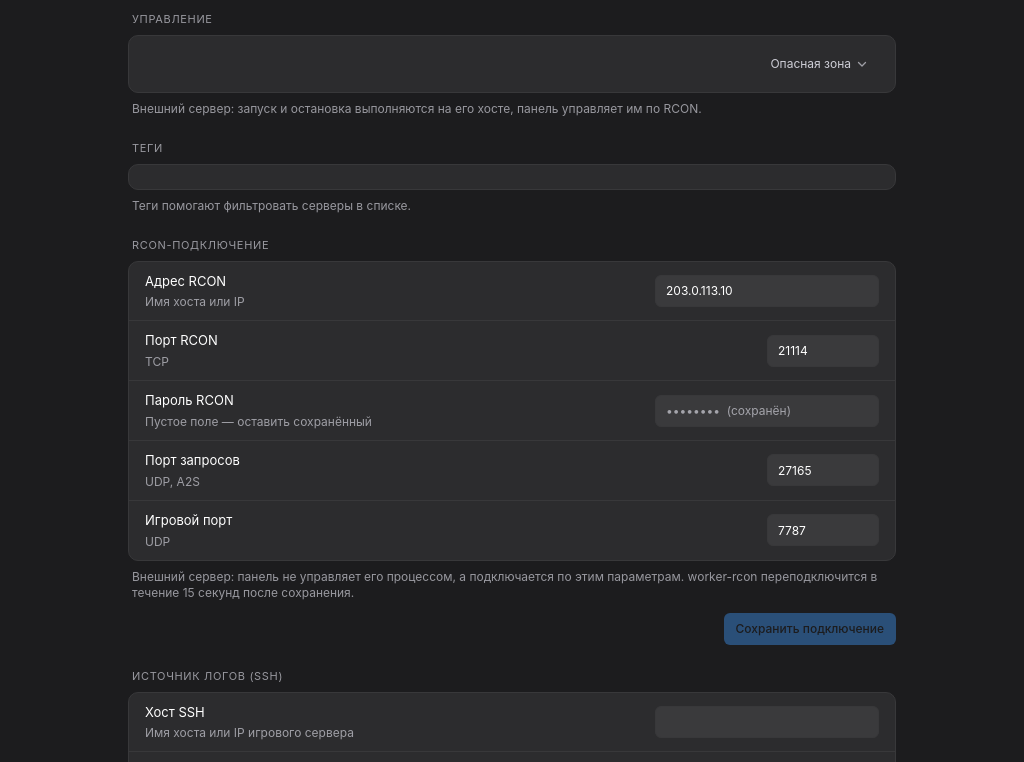
Scenario: SettingsPage — внешний сервер › сохраняет подключение через PUT /external-connection и не шлёт пустой пароль
The width and height of the screenshot is (1024, 762).
Check: the heading "RCON-подключение" is shown, box [132,238,269,252]
Check: the button "Сохранить подключение" is disabled, box [724,613,896,645]
Replace the text in the field named "Адрес RCON" with "198.51.100.7" at (767, 291), box [655,275,879,307]
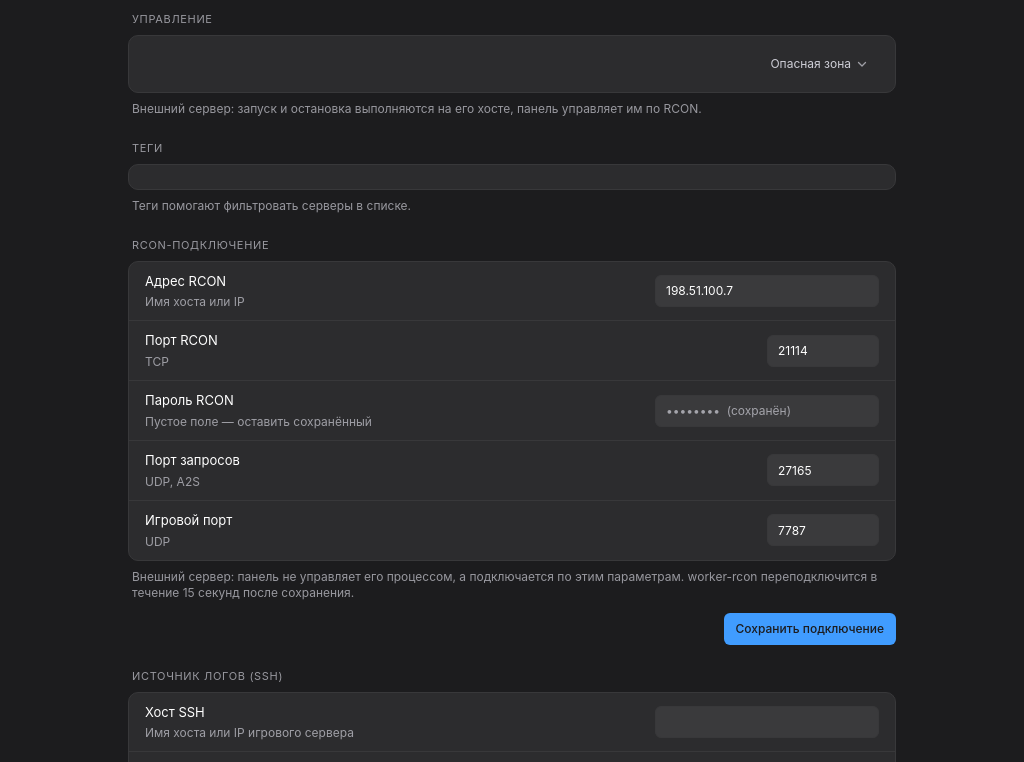
Check: the button "Сохранить подключение" is enabled
Click the button "Сохранить подключение".
click(810, 629)  # box [724,613,896,645]
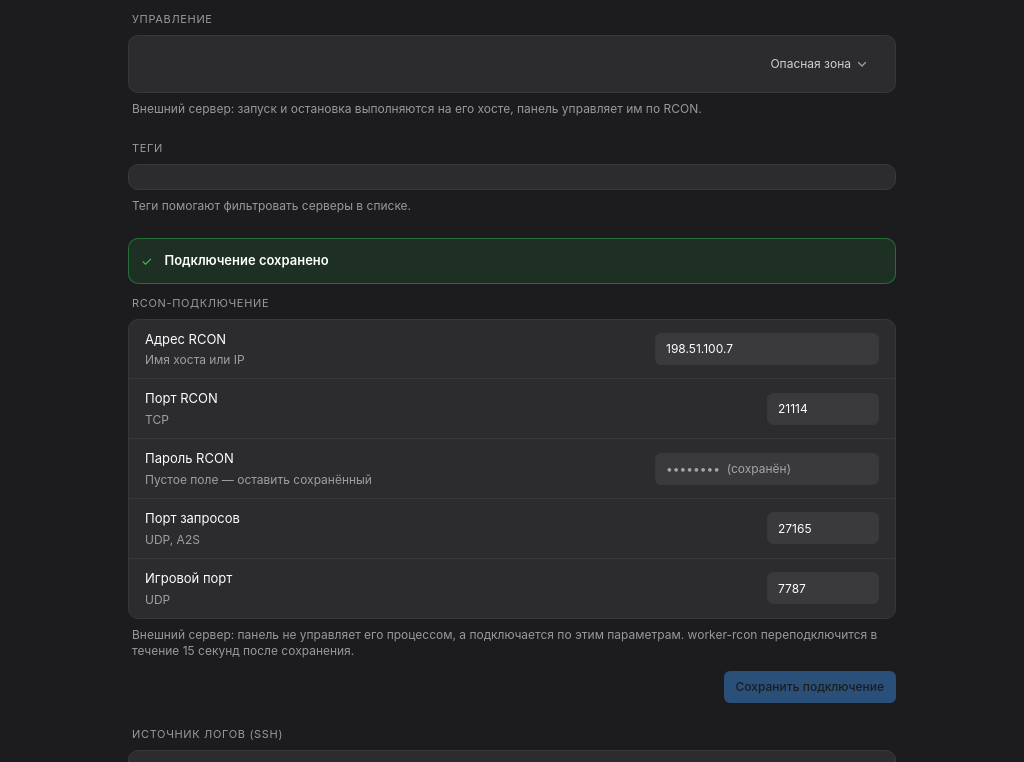
Check: the text "Подключение сохранено" is shown, box [164,252,329,268]
